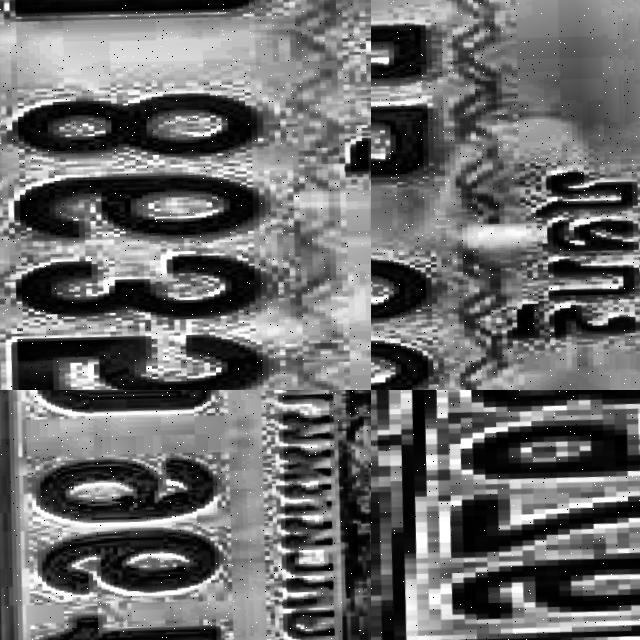license-plate: (0, 0, 371, 390), (371, 0, 640, 390), (0, 390, 371, 640), (371, 390, 640, 640)
